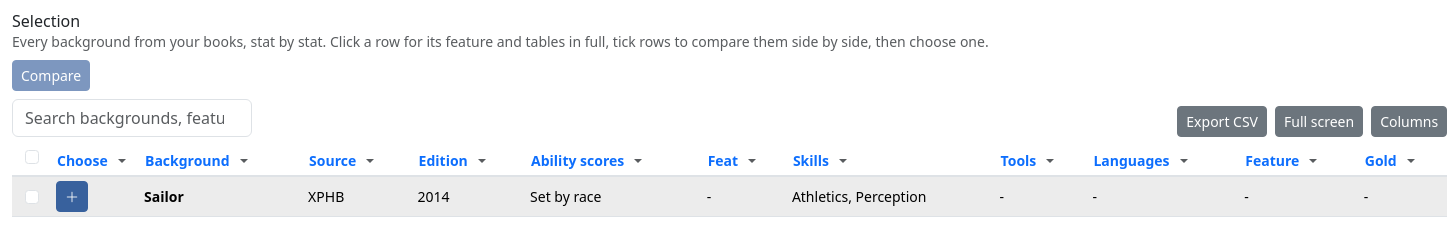
Test: BackgroundSelection › says plainly when neither a 2024 species nor a 2014 background gives increases
expect the table named "Background reference" is shown: met, box [12,145,1447,217]
Click the button named "Choose". click: (72, 197)
box: [56,181,88,212]
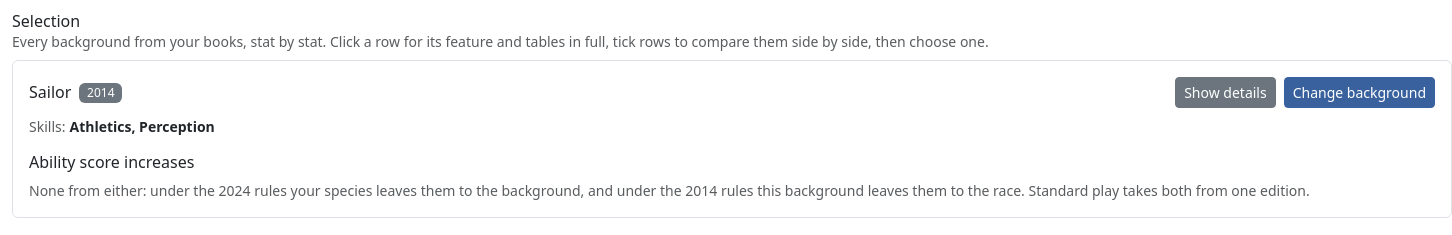
expect the text "None from either:" shows "under the 2024 rules your species leaves them to the background, and under the 2014 rules this background leaves them to the race.": met, box [29,181,1310,200]
